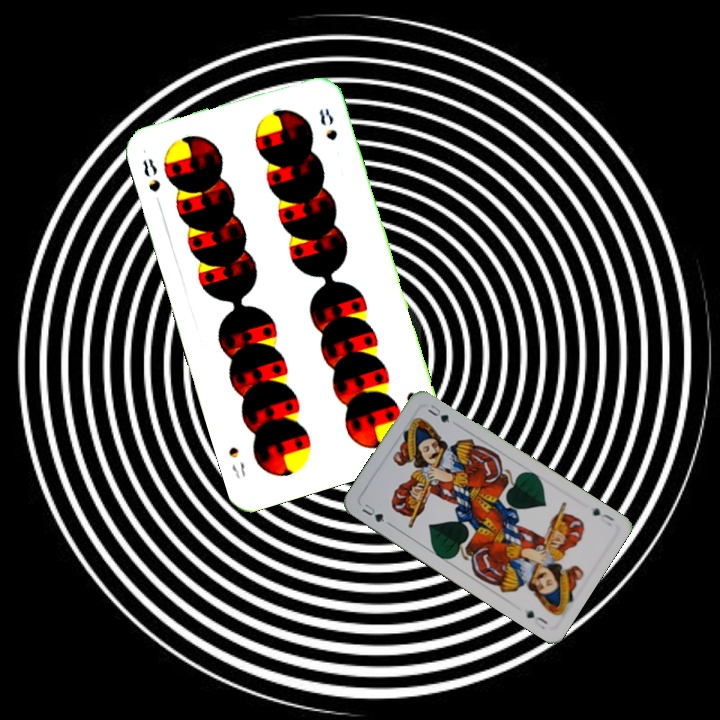GU: (358, 499, 393, 528), (588, 504, 617, 528)
S8: (138, 154, 163, 195)
